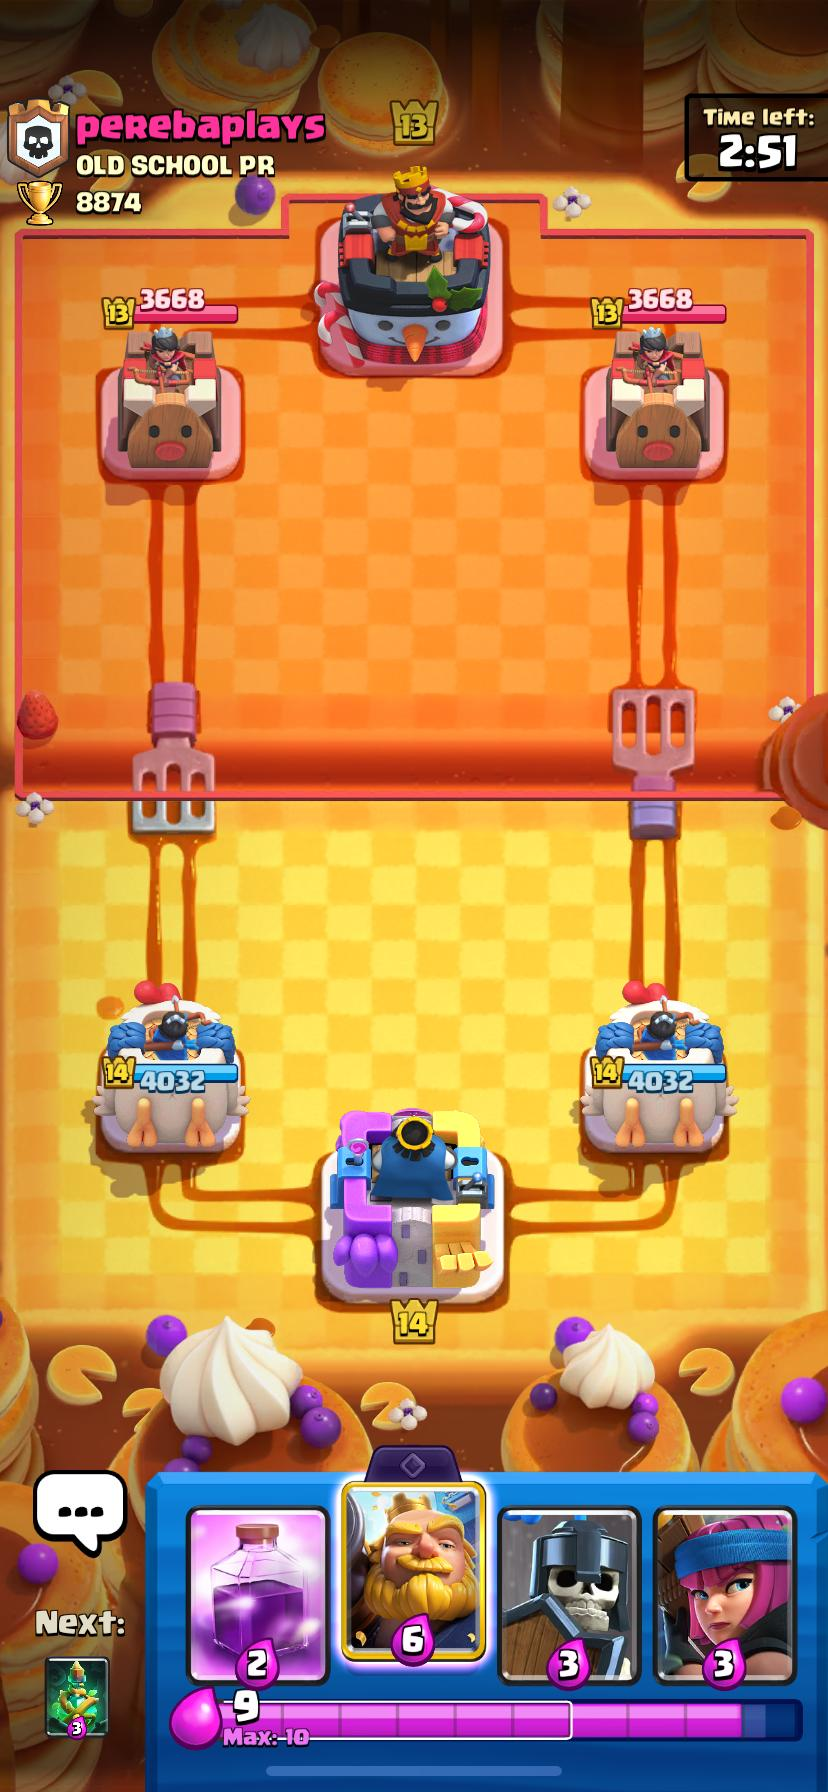EKingTower: (315, 167, 501, 374)
EnemyPrincessTower: (101, 325, 241, 480), (586, 325, 723, 480)
OwnKingTower: (321, 1109, 503, 1303)
OwnPrincessTower: (580, 982, 735, 1151), (93, 983, 248, 1151)
